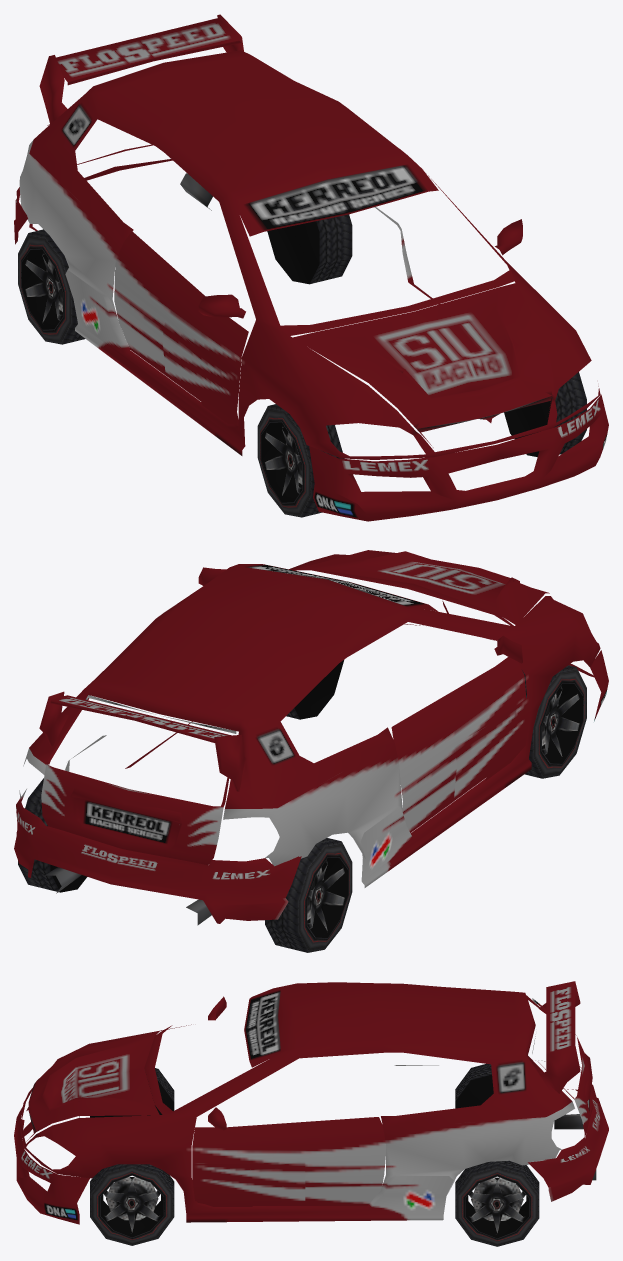
Rendered from car-COMP_Car6.glb.
3 views of the same model, one above another, from view 1: azimuth 30°, elevation 25°; view 2: azimuth 150°, elevation 25°; view 3: azimuth 270°, elevation 25° (orthographic). The views are drawn at different scales.
Parts seen in each view (by area): view 1: COMP_Car6; view 2: COMP_Car6; view 3: COMP_Car6.
Part boxes in pixels (x1,y1,x2,y2): COMP_Car6: (14,14,608,521); COMP_Car6: (14,550,608,952); COMP_Car6: (14,981,608,1246).
Bounding box in the file's own units: 2.01 × 1.43 × 4.15.
Materials: 19 (19 with a texture image).
